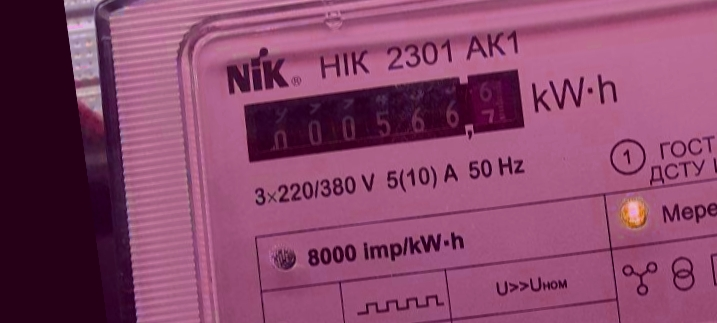0: (338, 111, 360, 142), (304, 114, 325, 145), (269, 124, 291, 149)
5: (373, 106, 394, 137)
6: (441, 95, 464, 128), (406, 103, 428, 133), (477, 77, 496, 104)
7: (480, 105, 498, 125)
9: (270, 102, 291, 124)
screen: (232, 58, 533, 173)
